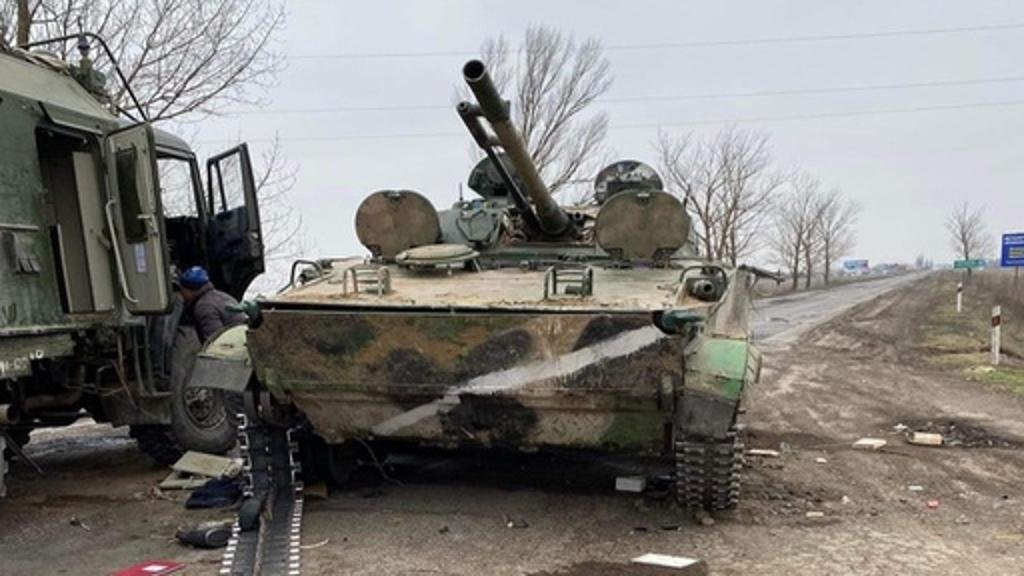APC-IFV: (246, 46, 766, 516)
TRUCK: (0, 50, 262, 490)
